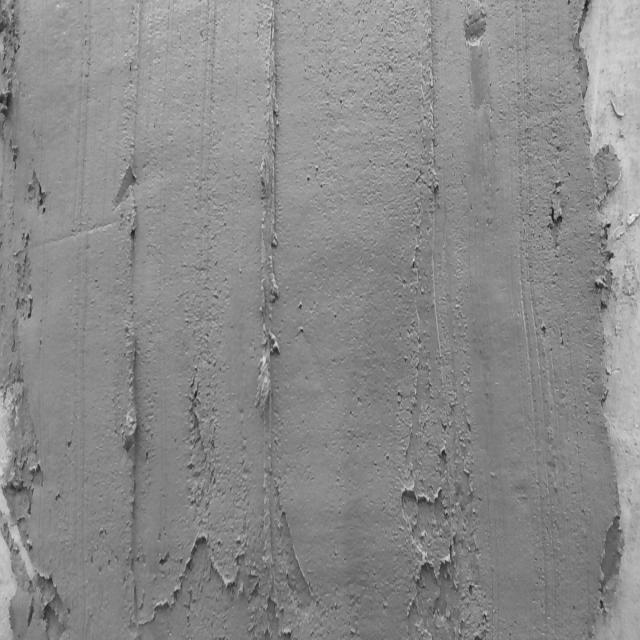trowels marks: (260, 7, 278, 563), (124, 141, 144, 639)
